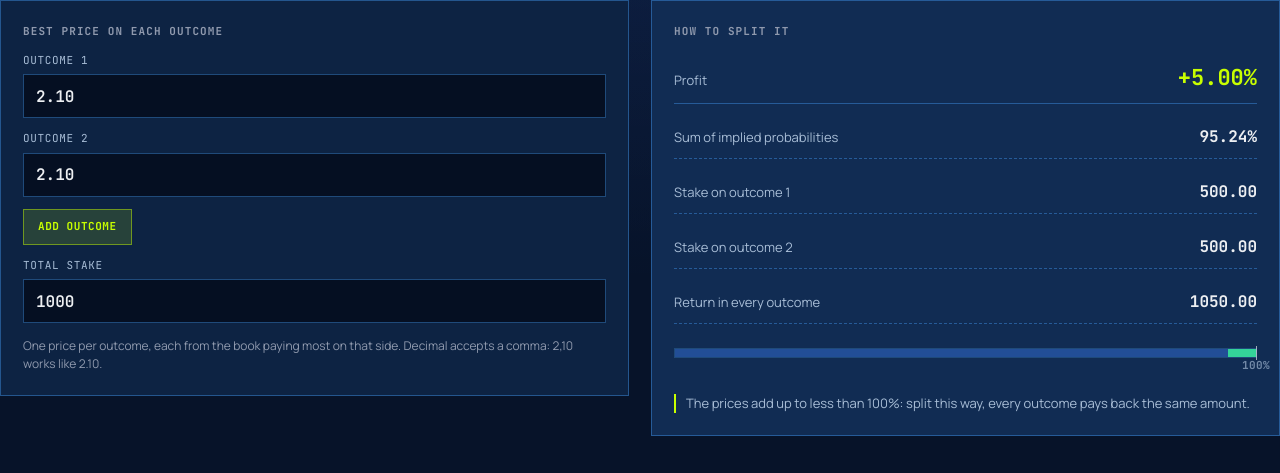
arbitrage calculator › 1.90/1.90 dice che non c'è arbitraggio invece di mostrare un profitto finto
Type "1.90" into the field labelled "Outcome 1" at (314, 96), box [24, 75, 605, 117]
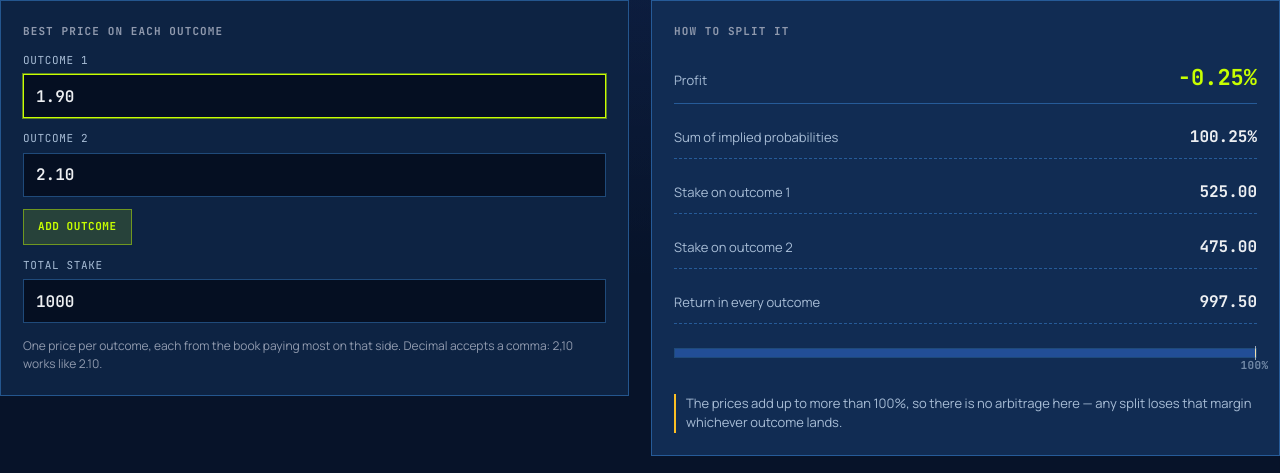
Type "1.90" into the field labelled "Outcome 2" at (314, 174), box [24, 154, 605, 196]
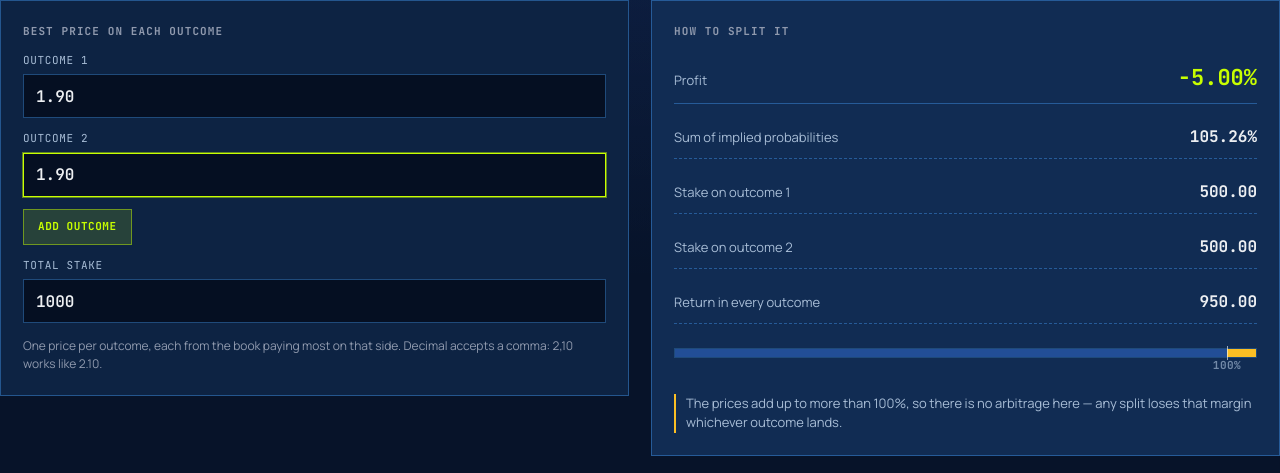
expect the text with test id "out-arb-profit" reads "-5.00%": met, box [1178, 62, 1257, 92]
expect the text with test id "out-arb-sum" reads "105.26%": met, box [1190, 126, 1257, 146]
